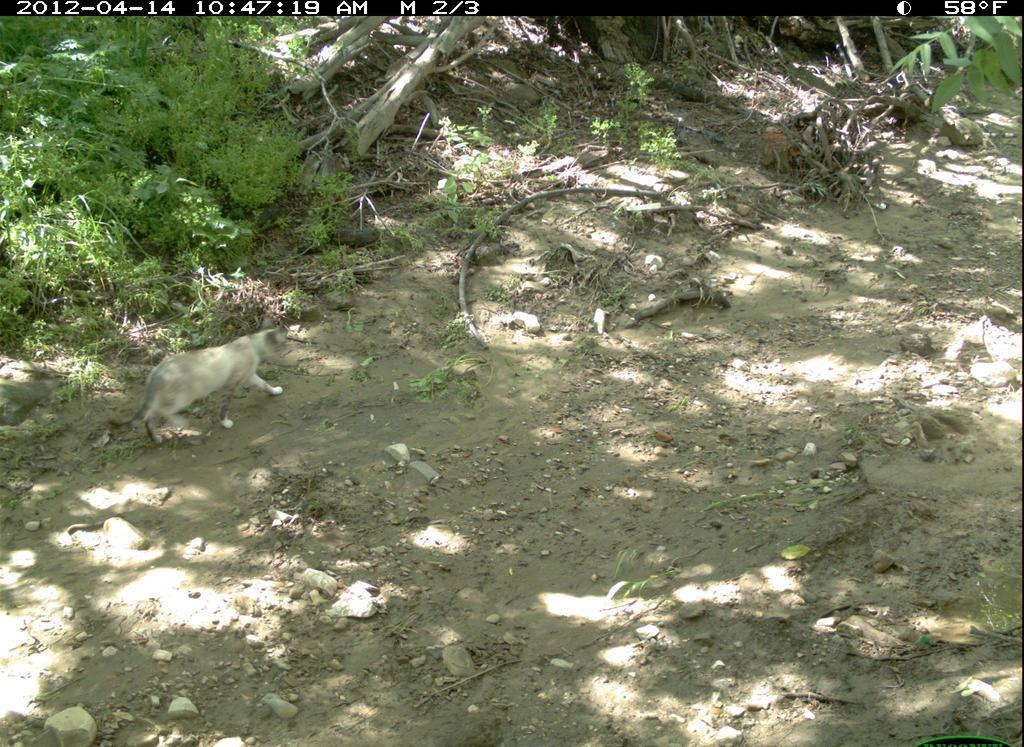cat: (103, 315, 308, 451)
